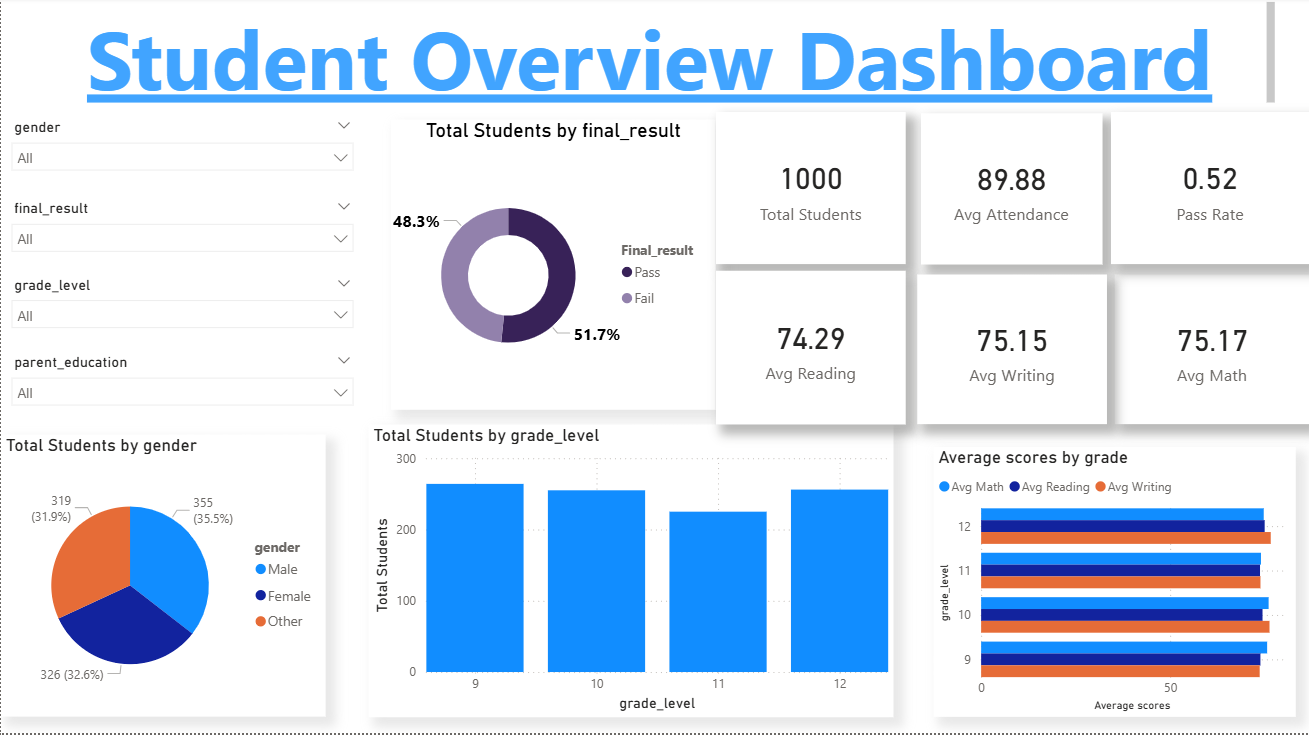

The page's visual inventory and layout, read from the dashboard file:
{"tool":"powerbi","page":{"name":"Page 1","canvas":[1280,720],"ordinal":0},"visuals":[{"type":"donutChart","fields":{"Category":["student_info.final_result"],"Y":["student_info.Total Students"]},"box":[381.5,119.8,317.9,283.7],"z":0},{"type":"textbox","box":[27.4,0,1224,112.5],"z":1000},{"type":"pieChart","fields":{"Category":["student_info.gender"],"Y":["student_info.Total Students"]},"box":[0,428,317.9,276.4],"z":2000},{"type":"clusteredColumnChart","fields":{"Category":["student_info.grade_level"],"Y":["student_info.Total Students"]},"box":[359.5,418.2,513.6,286.1],"z":3000},{"type":"clusteredBarChart","title":"Average scores by grade","fields":{"Y":["student_info.Avg Math","student_info.Avg Reading","student_info.Avg Writing"],"Category":["student_info.grade_level"]},"box":[912.2,440.2,354.6,264.1],"z":4000},{"type":"card","fields":{"Values":["student_info.Total Students"]},"box":[699.5,112.5,185.9,149.2],"z":5000},{"type":"card","fields":{"Values":["student_info.Avg Attendance"]},"box":[900,113.7,177.3,148],"z":6000},{"type":"card","fields":{"Values":["student_info.Avg Math"]},"box":[1089.5,271.5,190.8,146.7],"z":7000},{"type":"card","fields":{"Values":["student_info.Pass Rate"]},"box":[1085.9,112.5,194.4,149.2],"z":8000},{"type":"card","fields":{"Values":["student_info.Avg Reading"]},"box":[699.5,267.8,185.9,150.4],"z":9000},{"type":"card","fields":{"Values":["student_info.Avg Writing"]},"box":[896.3,271.5,185.9,146.7],"z":10000},{"type":"slicer","fields":{"Values":["student_info.gender"]},"box":[0,113.7,354.6,79.5],"z":11000},{"type":"slicer","fields":{"Values":["student_info.final_result"]},"box":[0,193.2,354.6,74.6],"z":12000},{"type":"slicer","fields":{"Values":["student_info.grade_level"]},"box":[0,267.8,354.6,70.9],"z":13000},{"type":"slicer","fields":{"Values":["student_info.parent_education"]},"box":[0,343.6,354.6,74.6],"z":14000}]}

Visuals, with their boxes in screenshot pixels (x1, y1, x2, y2), scaled from the page's 1280x720 canvas onto the 1309x735 screenshot:
donutChart - student_info.final_result x student_info.Total Students: (390,122,715,412)
textbox: (28,0,1280,115)
pieChart - student_info.gender x student_info.Total Students: (0,437,325,719)
clusteredColumnChart - student_info.grade_level x student_info.Total Students: (368,427,893,719)
"Average scores by grade" clusteredBarChart: (933,449,1296,719)
card - student_info.Total Students: (715,115,905,267)
card - student_info.Avg Attendance: (920,116,1102,267)
card - student_info.Avg Math: (1114,277,1308,427)
card - student_info.Pass Rate: (1111,115,1308,267)
card - student_info.Avg Reading: (715,273,905,427)
card - student_info.Avg Writing: (917,277,1107,427)
slicer - student_info.gender: (0,116,363,197)
slicer - student_info.final_result: (0,197,363,273)
slicer - student_info.grade_level: (0,273,363,346)
slicer - student_info.parent_education: (0,351,363,427)
